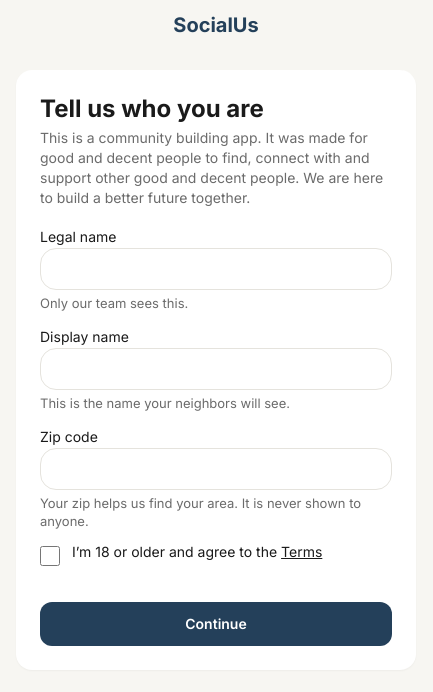
Test: F081 — the signup screen › surfaces a server-side failure and stays put
In the field with test id "onboarding-legal-name": (216, 269) [40,248,392,290], type "Maya Rivera"
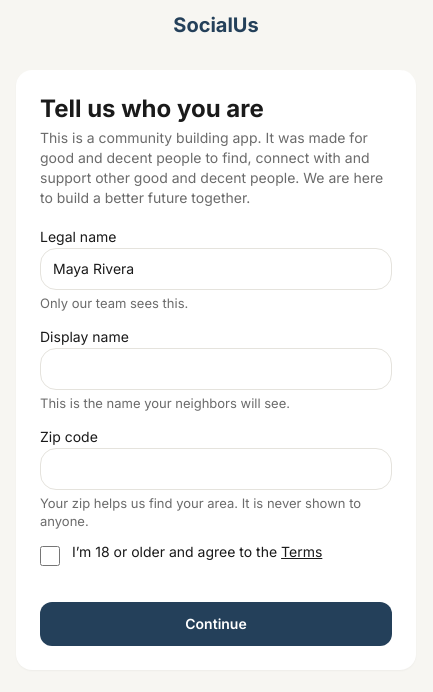
In the field with test id "onboarding-name": (216, 369) [40,348,392,390], type "Maya"
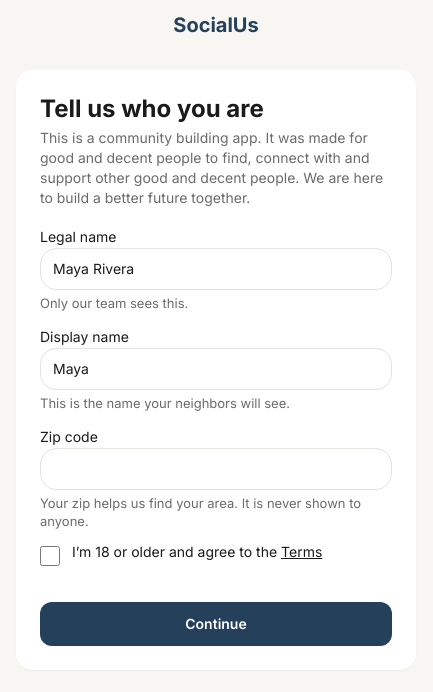
In the field with test id "onboarding-zip": (216, 469) [40,448,392,490], type "95819"
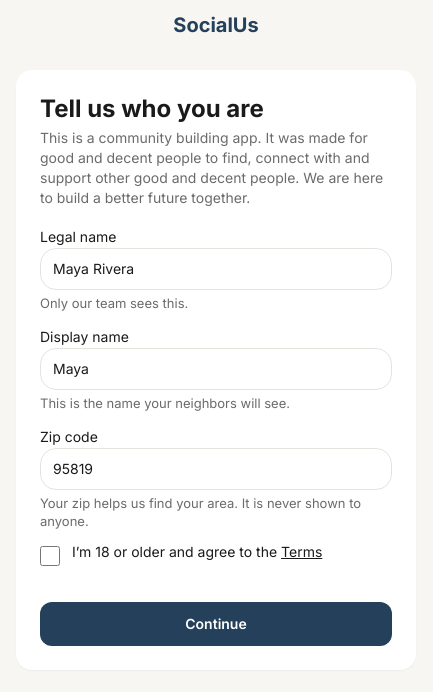
Click the checkbox with test id "onboarding-adult": (50, 556) [40,546,60,566]
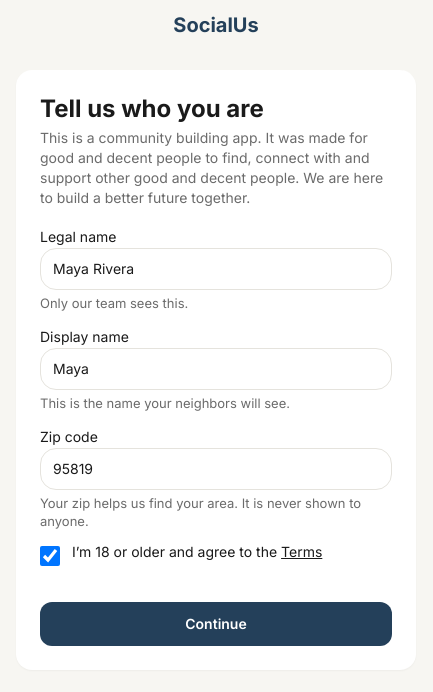
Click the button with test id "onboarding-continue": (216, 624) [40,602,392,646]
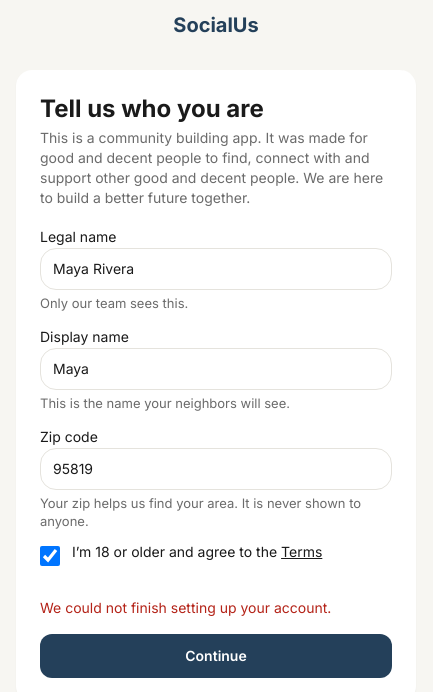
Result: the message with test id "onboarding-error" shows "could not finish" at [40,599,331,616]
